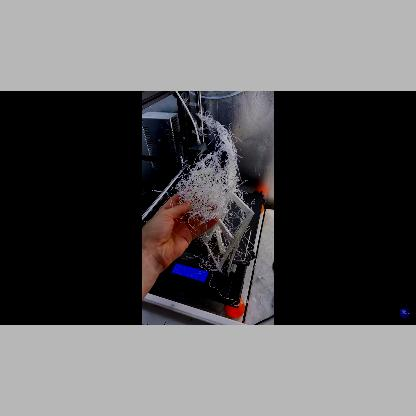fail: (182, 150, 235, 220), (200, 112, 245, 148), (195, 234, 229, 270), (236, 243, 260, 265)
